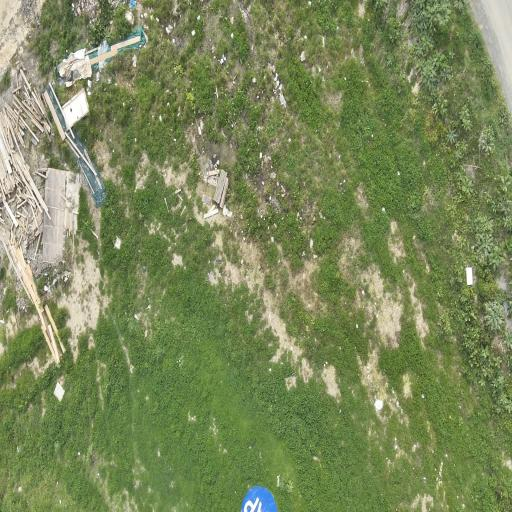uap: (241, 486, 277, 512)
